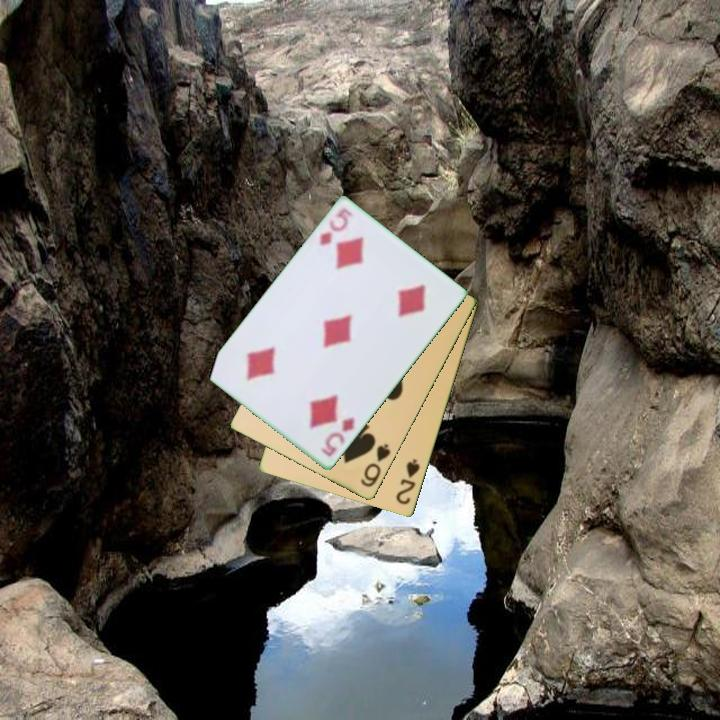2s: (392, 455, 423, 508)
5d: (317, 413, 358, 460), (316, 205, 355, 249)
6s: (357, 440, 394, 490)
